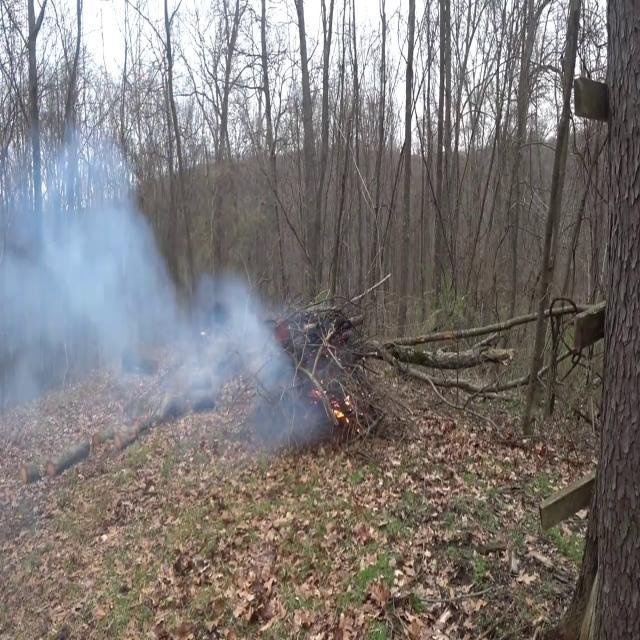Smoke: (1, 140, 180, 450)
